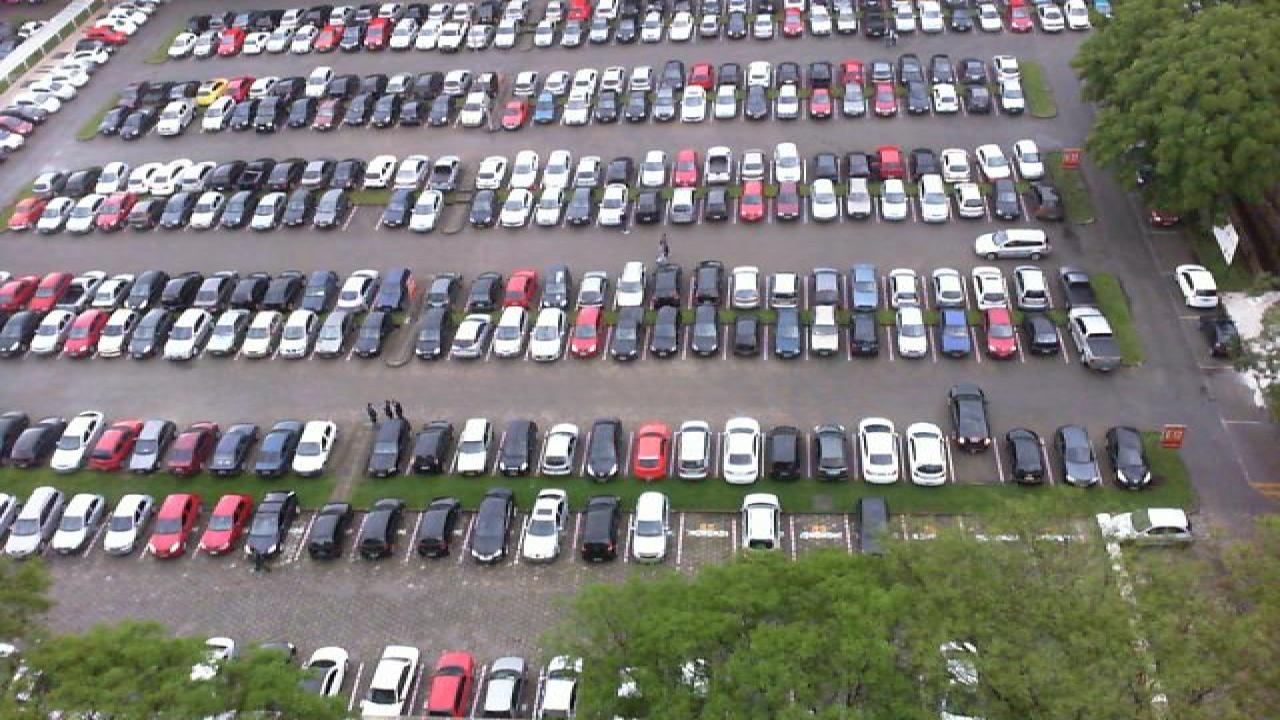Car: (356, 643, 420, 720), (464, 488, 518, 565), (418, 649, 476, 720), (516, 488, 570, 564), (244, 489, 300, 562), (40, 487, 98, 556), (478, 646, 532, 720), (148, 493, 206, 559), (1096, 507, 1194, 546), (200, 492, 256, 558), (48, 410, 104, 472), (100, 492, 156, 554), (626, 490, 672, 564), (534, 655, 586, 720), (570, 497, 620, 564), (364, 416, 418, 478), (354, 500, 408, 562), (408, 498, 460, 562), (0, 487, 48, 555), (1070, 306, 1118, 374), (1004, 426, 1054, 488), (302, 500, 352, 562), (904, 422, 952, 486), (720, 416, 764, 485), (90, 418, 144, 474), (1104, 426, 1152, 489), (858, 417, 902, 485), (948, 386, 994, 451), (1056, 424, 1102, 488), (168, 421, 220, 476), (210, 421, 262, 476), (494, 416, 540, 478), (130, 420, 182, 474), (972, 226, 1050, 262), (252, 421, 302, 477), (408, 418, 456, 476), (582, 417, 626, 480), (738, 492, 782, 554), (808, 425, 854, 484), (2, 411, 46, 472), (452, 417, 496, 476), (628, 422, 672, 481), (674, 425, 718, 484), (290, 420, 338, 474), (764, 424, 806, 483), (978, 305, 1022, 360), (538, 423, 582, 477), (1024, 306, 1066, 359), (1174, 262, 1220, 310), (24, 309, 68, 359), (292, 306, 332, 361), (330, 305, 370, 360), (180, 309, 222, 361), (218, 309, 260, 361), (566, 303, 604, 360), (934, 306, 974, 360), (62, 309, 104, 360), (102, 309, 144, 360), (646, 305, 684, 361), (256, 310, 296, 362), (364, 306, 402, 360), (846, 307, 884, 361), (886, 306, 924, 360), (144, 309, 184, 360), (728, 306, 766, 359), (494, 306, 530, 361), (432, 308, 470, 360), (530, 307, 566, 361), (688, 306, 724, 360), (806, 306, 842, 360), (608, 305, 642, 360), (770, 306, 804, 361), (688, 260, 726, 309), (1014, 266, 1056, 310), (196, 270, 236, 312), (50, 270, 90, 312), (12, 271, 52, 313), (974, 266, 1012, 310), (888, 266, 926, 310), (88, 271, 128, 312), (612, 261, 646, 308), (460, 318, 496, 362), (576, 266, 612, 310), (540, 266, 576, 310), (374, 266, 410, 310), (162, 268, 198, 312), (652, 262, 686, 308), (930, 267, 968, 308), (268, 271, 306, 312), (232, 271, 270, 312), (0, 308, 30, 359), (468, 269, 506, 309), (126, 272, 164, 312), (728, 266, 764, 308), (768, 266, 802, 310), (504, 269, 540, 309), (338, 270, 374, 310), (304, 270, 340, 310), (812, 266, 846, 308), (850, 264, 882, 308), (434, 271, 468, 311)
